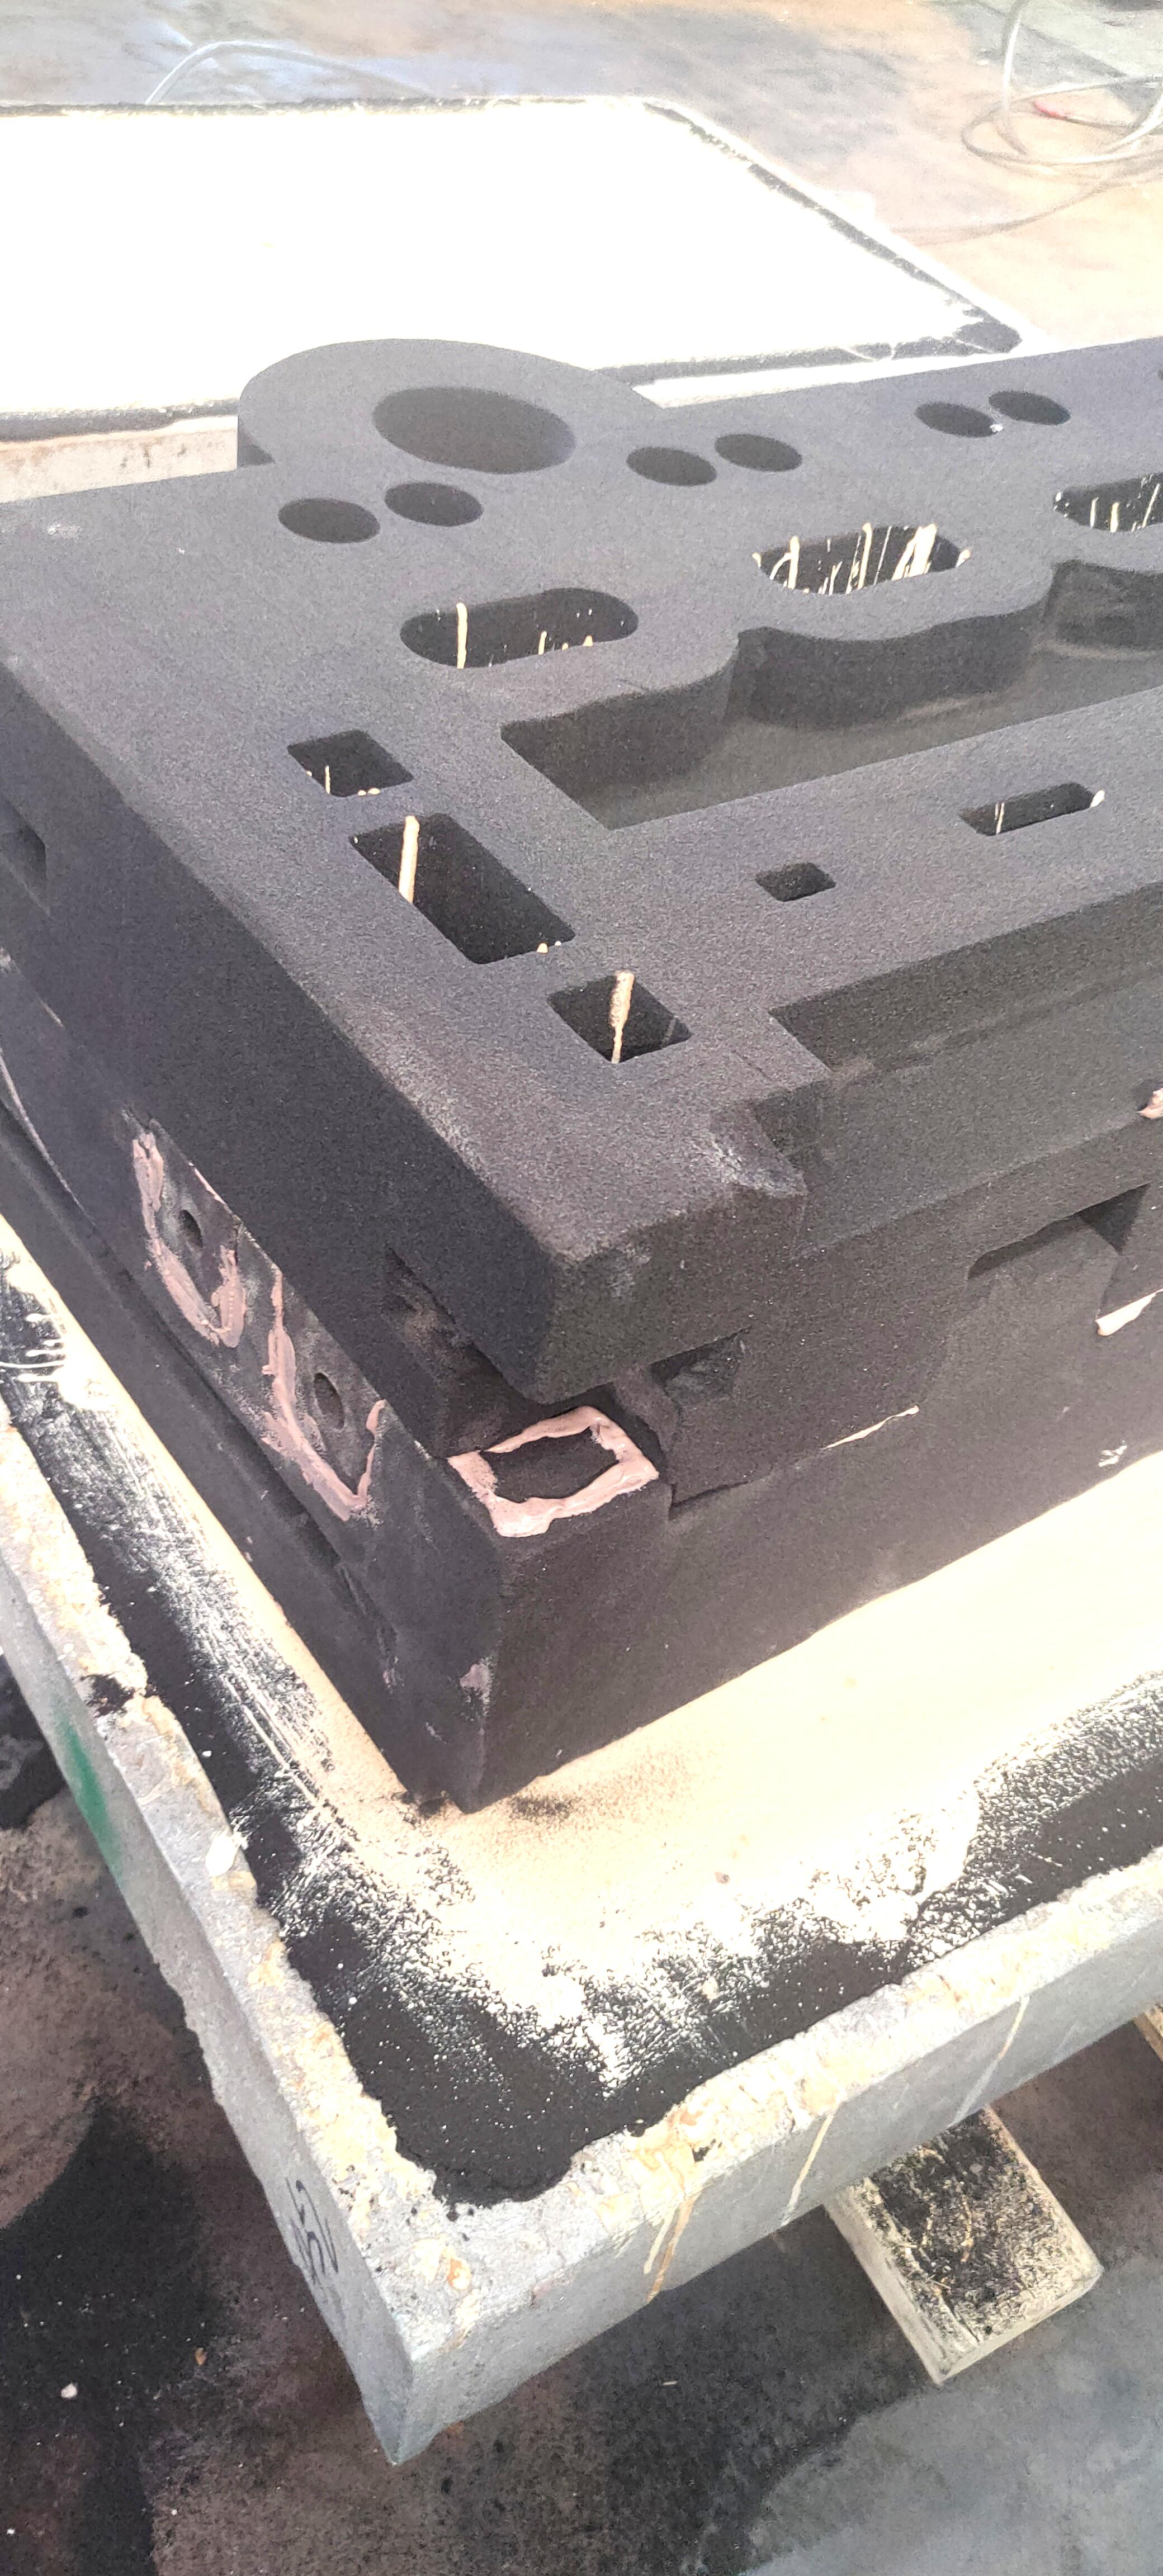pouring hole: (373, 388, 577, 473)
